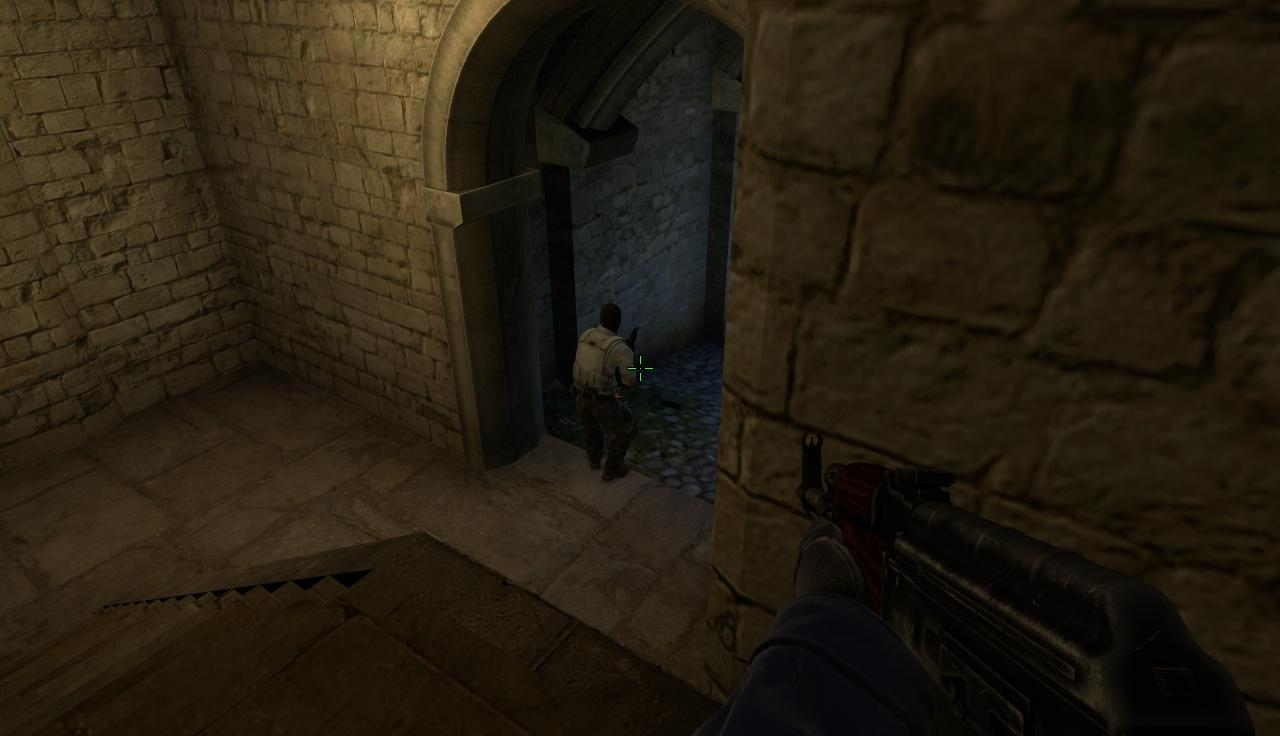rifle: (800, 426, 1280, 731)
tt: (573, 303, 635, 482)
tthead: (598, 303, 623, 333)
